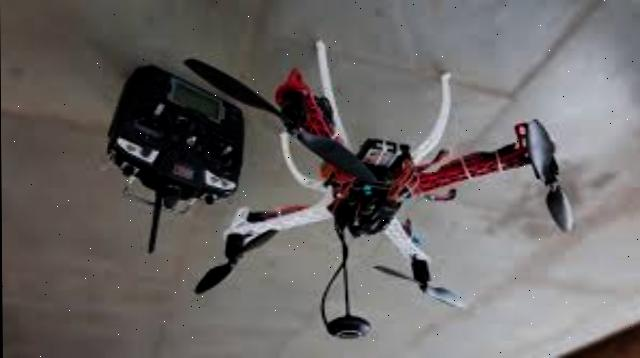drone: (176, 36, 584, 306)
